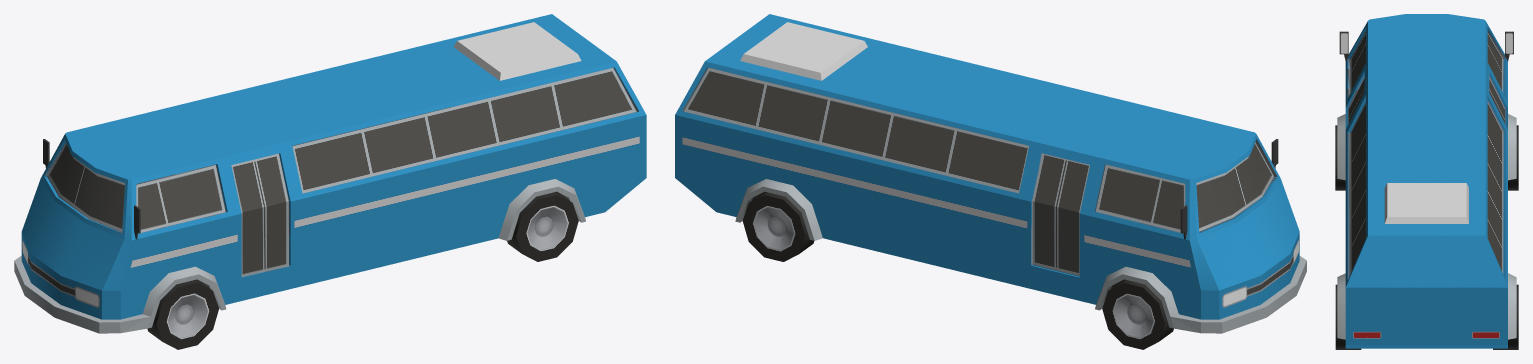
Rendered from bus11.obj.
The picture shows the model from 3 angles, left to right: view 1: azimuth 30°, elevation 25°; view 2: azimuth 150°, elevation 25°; view 3: azimuth 270°, elevation 25°; orthographic projection. The views are drawn at different scales.
Size of the model in its own units: 19.92 by 5.77 by 6.2.
